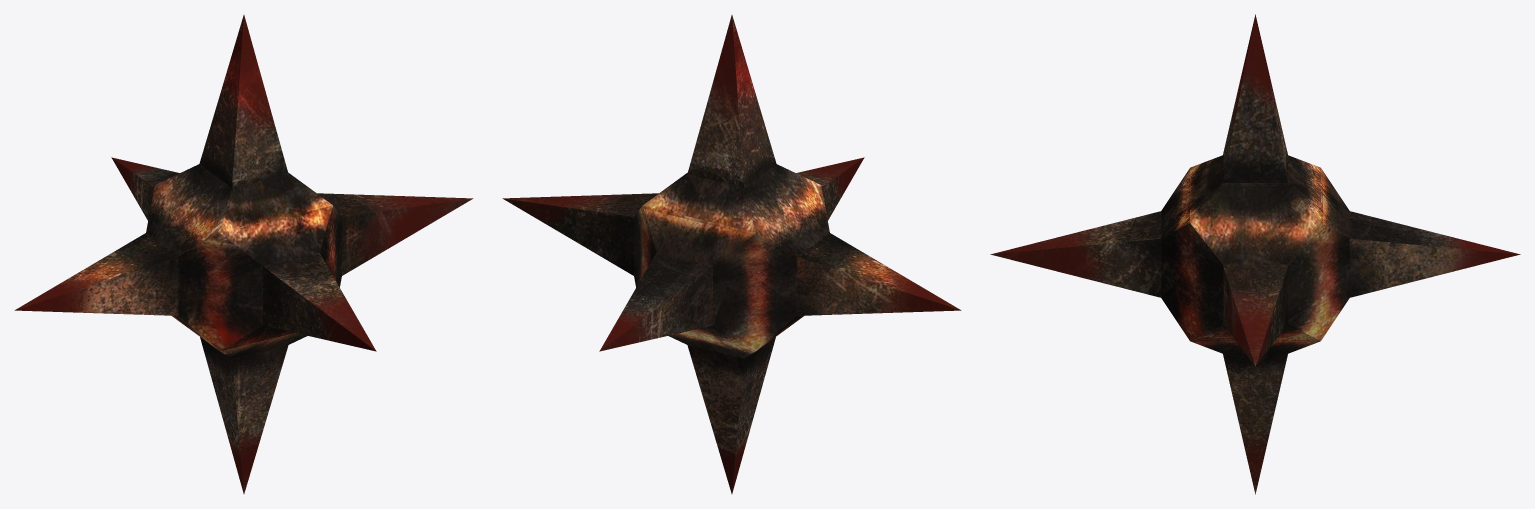
File: pinchepinchoso.fbx
3 views of the same model, side by side, from view 1: azimuth 30°, elevation 25°; view 2: azimuth 150°, elevation 25°; view 3: azimuth 270°, elevation 25° (orthographic).
Visible parts, largest first — view 1: Cube; view 2: Cube; view 3: Cube.
Boxes of the visible parts, x1,y1,x2,y2 form: Cube: (14,15,473,493); Cube: (502,15,961,493); Cube: (990,14,1520,494).
Size of the model in its own units: 812 by 812 by 812.
Materials: 1 (1 with a texture image).
